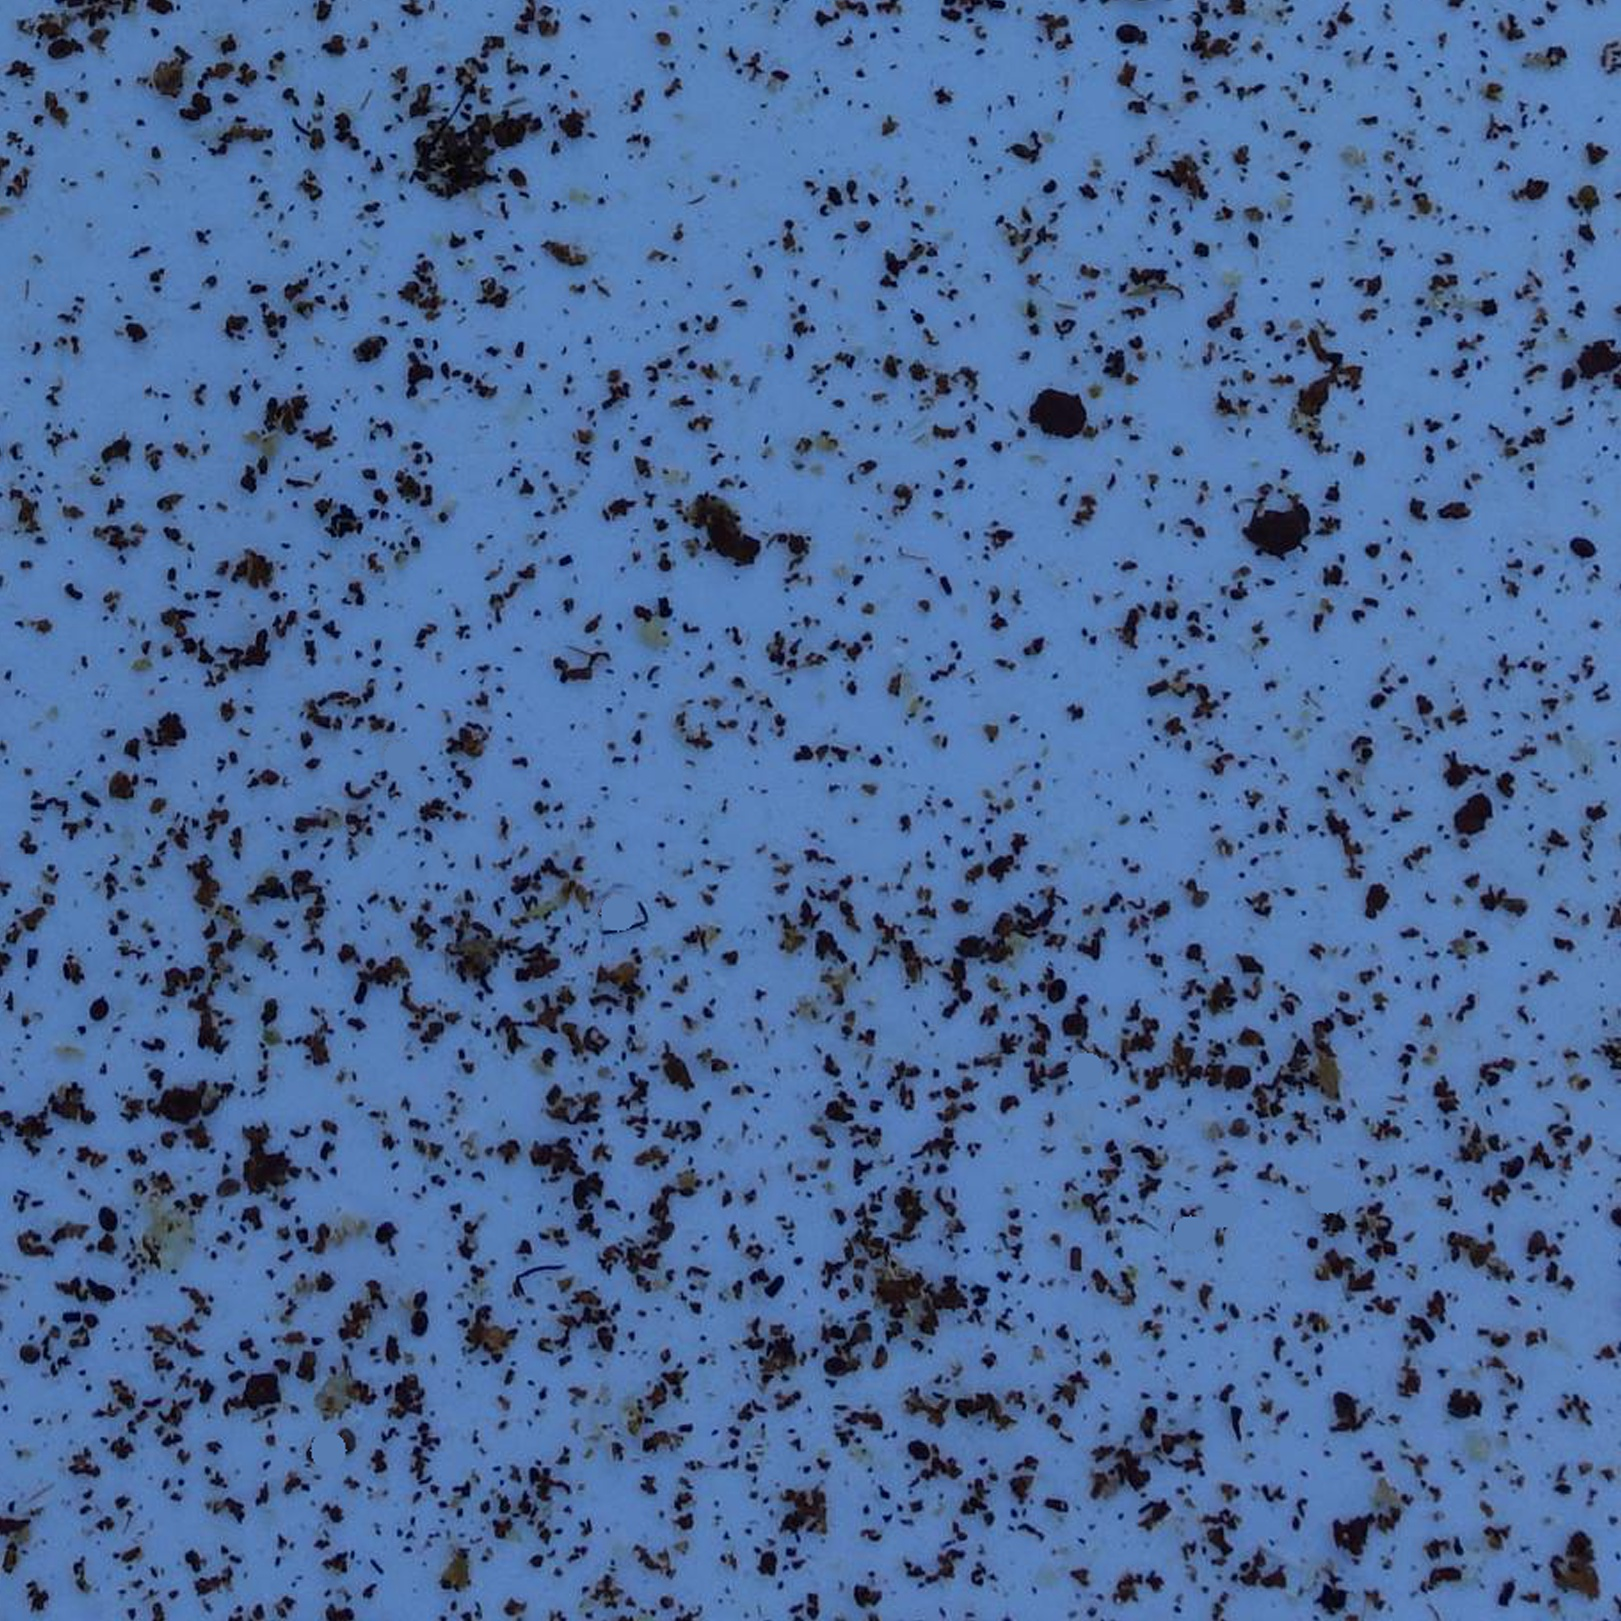Varroa: (1513, 1219, 1559, 1265), (79, 1271, 125, 1317), (289, 1427, 335, 1473), (1113, 9, 1146, 42), (1566, 533, 1597, 566), (824, 1354, 855, 1385), (19, 1333, 49, 1366), (45, 34, 76, 64), (334, 1427, 364, 1458), (904, 1438, 934, 1468), (98, 1204, 126, 1234), (217, 1173, 245, 1202), (1499, 1153, 1527, 1182), (85, 995, 111, 1024), (407, 1297, 433, 1327), (373, 1222, 399, 1250), (1047, 975, 1075, 1001)
